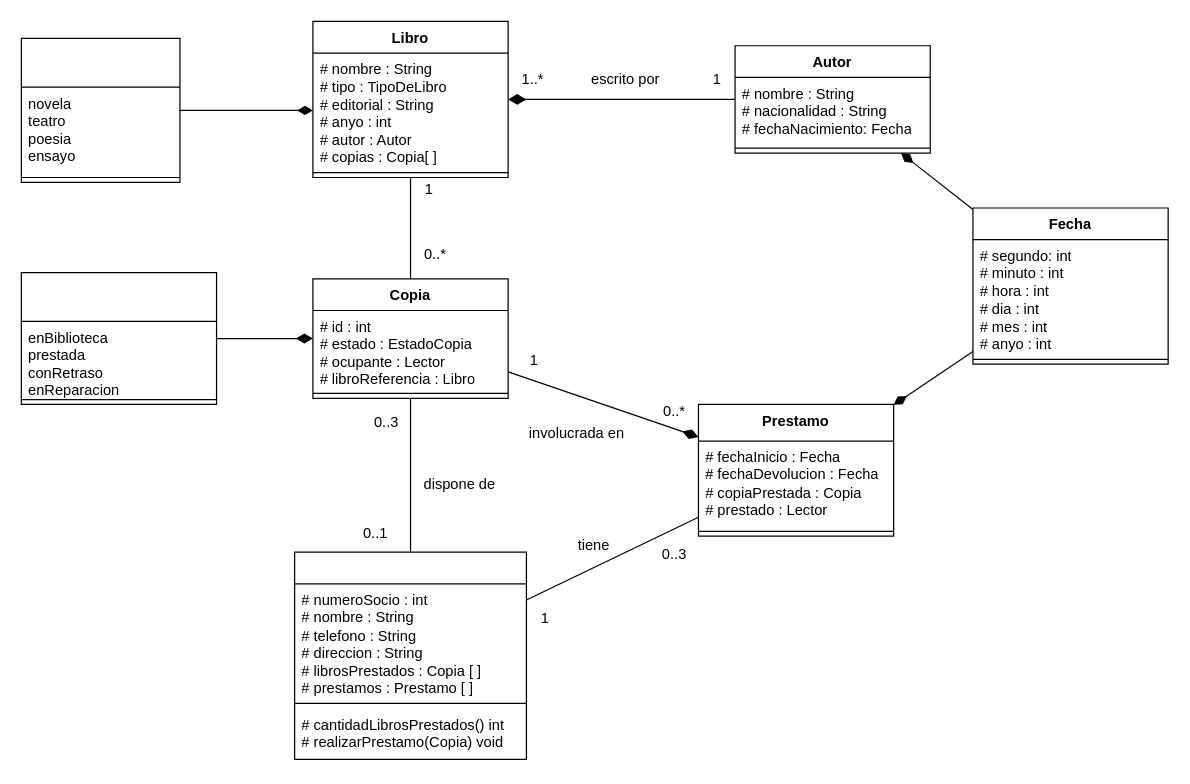
This 1190x784 diagram has some shape labels left out. The box of each missing label's shape, as (x1, y1, x2, y2) in pixels:
<<enum>> EstadoCopia: (20, 271, 217, 404)
<<enum>> TipoDeLibro: (20, 37, 180, 182)
Lector: (293, 551, 526, 759)
